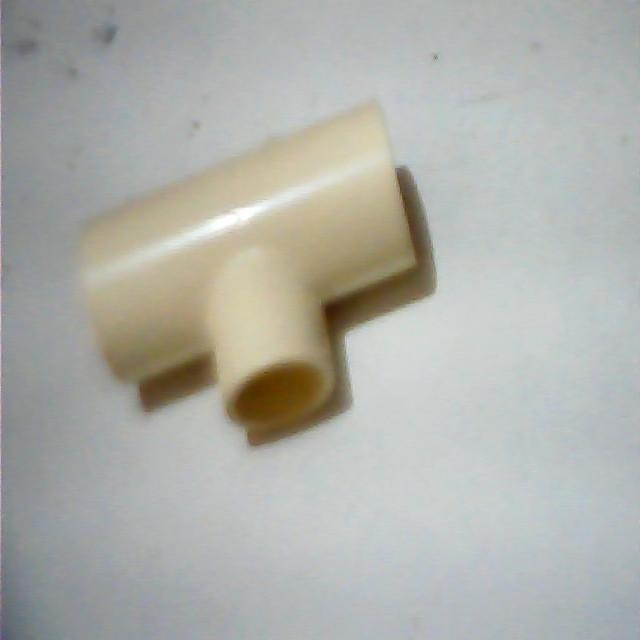T Joint: (77, 100, 421, 449)
